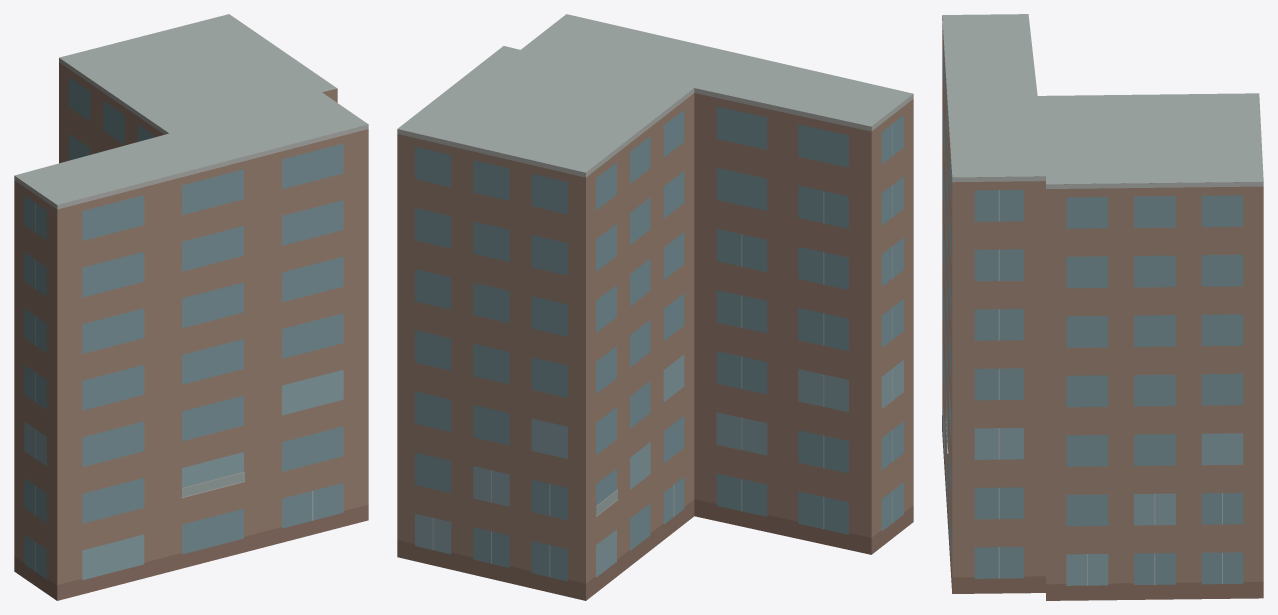
Rendered from survey-upis-32547309.glb.
The picture shows the model from 3 angles, left to right: view 1: azimuth 30°, elevation 25°; view 2: azimuth 150°, elevation 25°; view 3: azimuth 270°, elevation 25°; orthographic projection. The views are drawn at different scales.
Visible parts, largest first — view 1: survey-upis-32547309.tmp; view 2: survey-upis-32547309.tmp; view 3: survey-upis-32547309.tmp.
Part boxes in pixels (x1,y1,x2,y2): survey-upis-32547309.tmp: [14, 14, 368, 600]; survey-upis-32547309.tmp: [397, 14, 913, 600]; survey-upis-32547309.tmp: [942, 14, 1263, 600].
Bounding box in the file's own units: 18.73 × 21.35 × 14.94.
